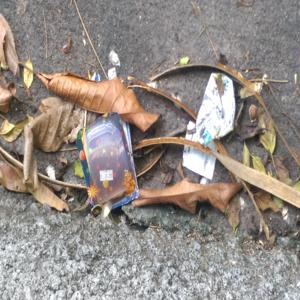plastic: (164, 57, 247, 181), (78, 118, 153, 206)
